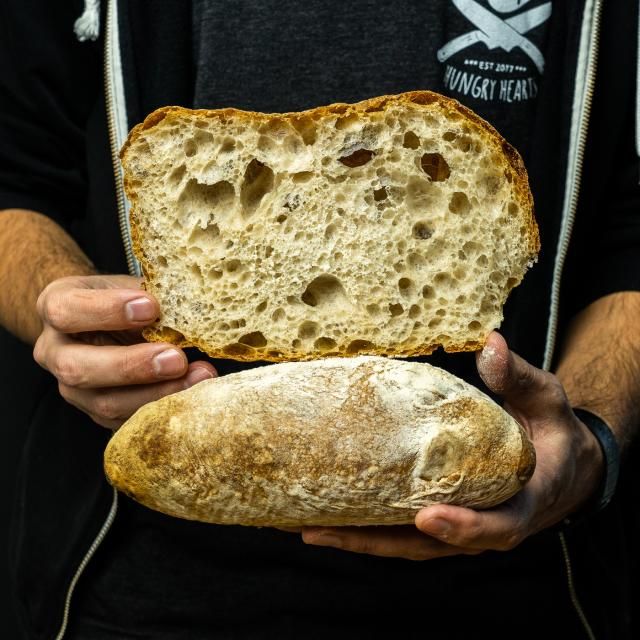Ciabatta: (105, 358, 535, 528)
